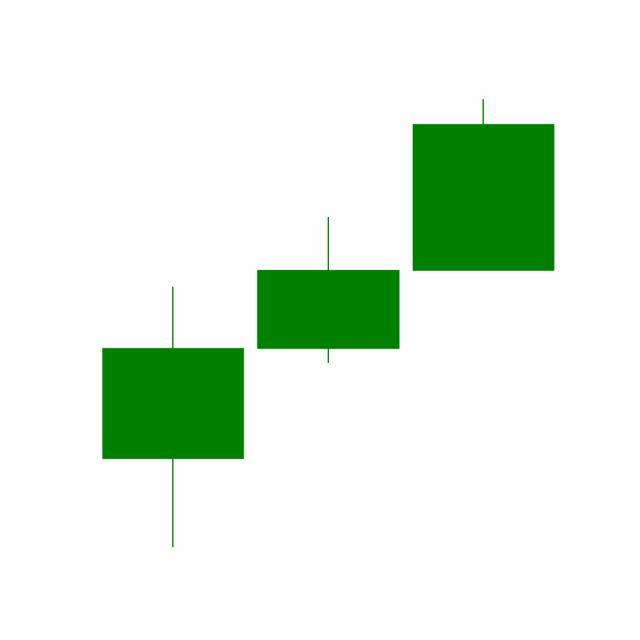Marubozu: (406, 97, 562, 273)
